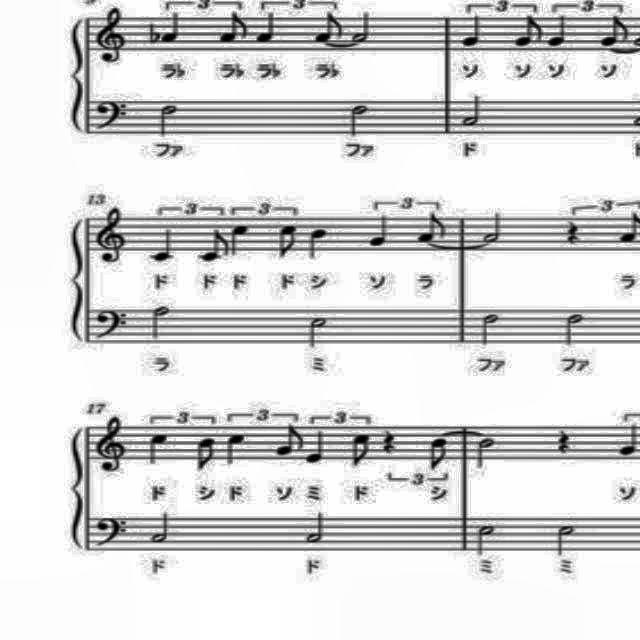Bass-clef: (90, 508, 134, 552), (88, 95, 132, 135), (93, 307, 131, 343)
Eighth-note: (508, 7, 546, 53), (596, 11, 632, 54), (214, 9, 250, 51), (311, 8, 349, 46), (272, 219, 304, 263), (270, 421, 306, 459), (414, 212, 454, 246), (192, 429, 220, 477), (196, 227, 230, 266), (427, 432, 458, 472), (347, 428, 375, 472)
Half-note: (342, 97, 380, 141), (452, 92, 488, 138), (473, 306, 505, 352), (467, 516, 499, 562), (476, 210, 512, 250), (558, 305, 590, 349), (302, 508, 334, 552), (146, 301, 178, 344), (305, 308, 333, 352), (550, 516, 578, 560), (144, 509, 176, 547), (154, 98, 184, 138), (471, 435, 499, 473), (349, 10, 377, 46)
Quarter-note: (145, 225, 183, 269), (454, 14, 486, 54), (228, 218, 256, 262), (220, 430, 250, 470), (301, 431, 331, 471), (252, 8, 280, 50), (144, 429, 172, 469), (308, 216, 330, 264), (157, 12, 185, 48), (546, 11, 570, 51), (616, 422, 640, 462), (366, 210, 389, 250)
Quarter-rest: (551, 424, 577, 456), (562, 219, 586, 251), (378, 422, 398, 458)
Treble-clef: (89, 4, 135, 70), (89, 412, 131, 476), (92, 202, 132, 266)
